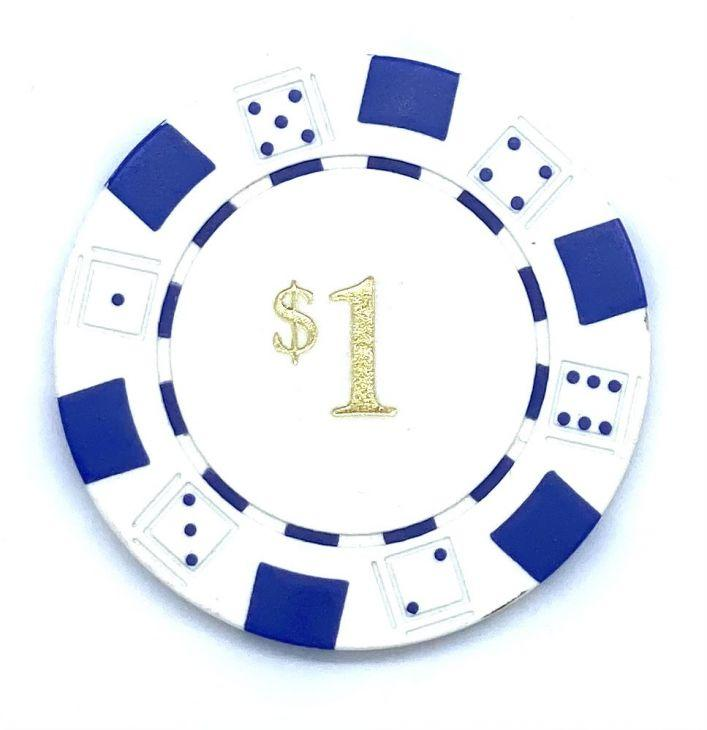chip-white: (54, 47, 650, 649)
